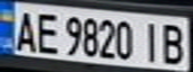0: (115, 17, 139, 61)
2: (97, 16, 118, 60)
8: (78, 14, 100, 58)
9: (60, 11, 84, 56)
A: (9, 7, 39, 53)
B: (157, 20, 190, 65)
E: (33, 8, 60, 55)
I: (139, 19, 166, 63)
